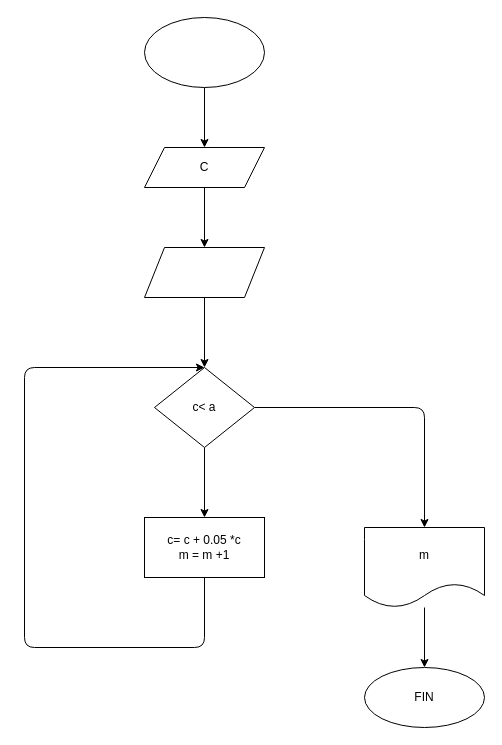
This 502x745 diagram has some shape labels left out. Each missing label, with the box of its shape:
a = 2 * c m= 0: (144, 246, 264, 298)
INICIO: (144, 16, 264, 88)
